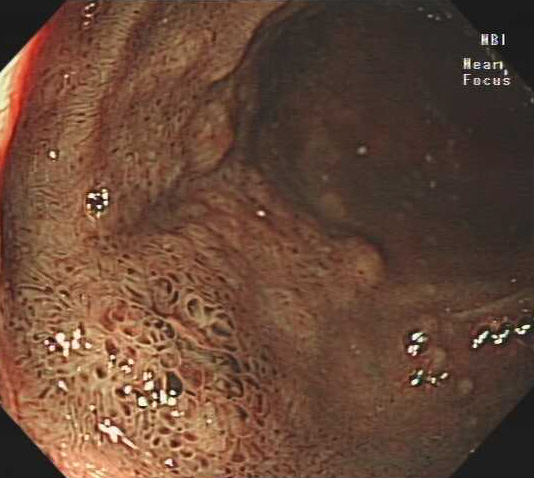adenoma: (35, 47, 328, 478)
